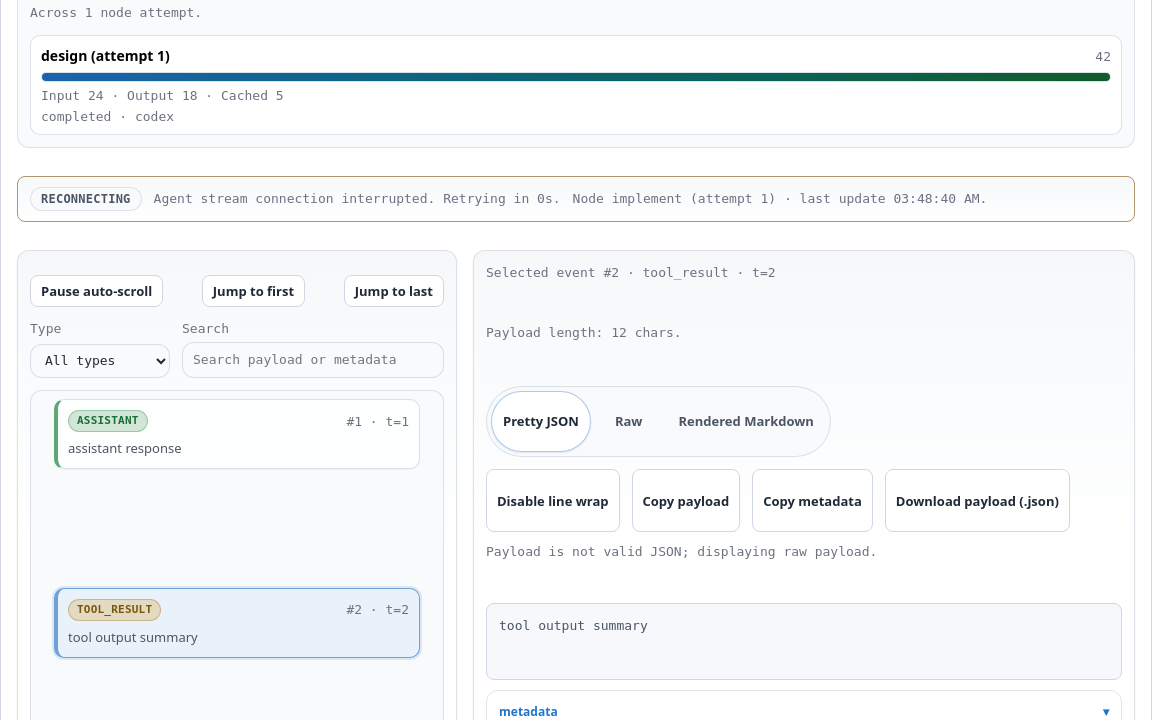
Test: RunDetailContent realtime updates › filters and searches stream events in the inspector list
(page scrolled)
Expected: the text "assistant response" is shown, left=68, top=439, right=182, bottom=457
Expected: the text "tool output summary" below "Type" is shown, left=68, top=628, right=198, bottom=646
Select "tool_result" in the dropdown named "Agent stream event type filter": (100, 361) left=30, top=344, right=170, bottom=378
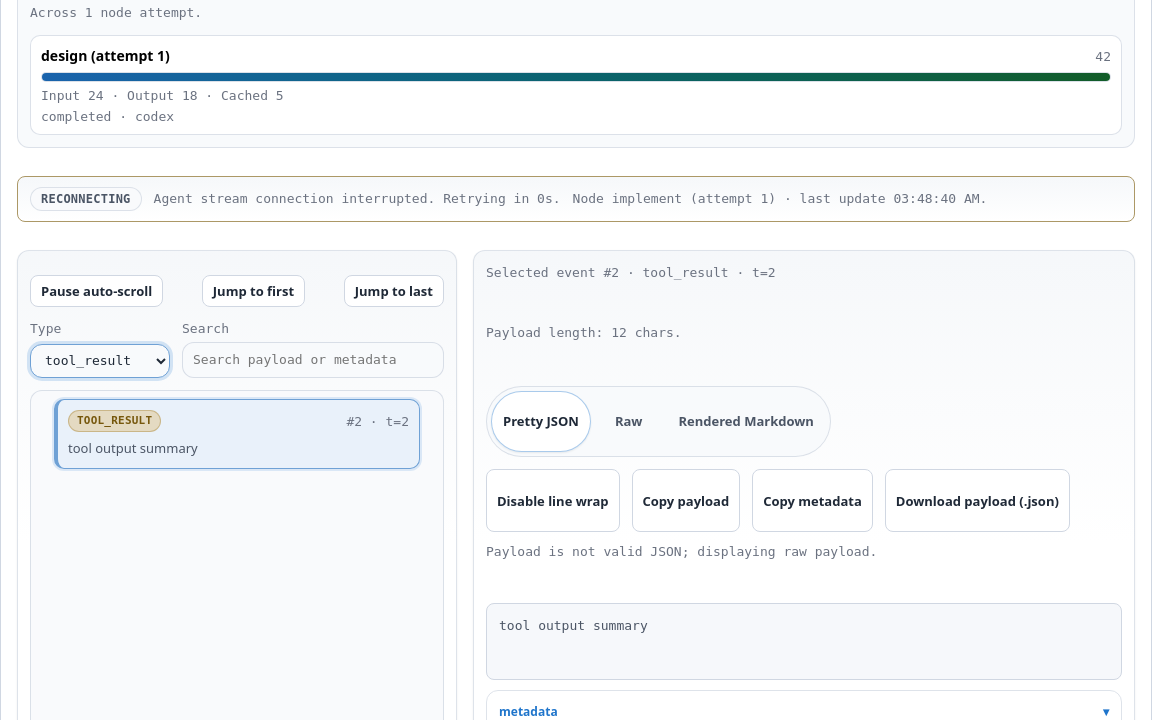
Expected: the text "tool output summary" below "Type" is shown, left=68, top=439, right=198, bottom=457
Expected: the button "assistant response" is gone
In the field named "Search agent stream events": (313, 360) left=182, top=342, right=444, bottom=378, type "no-match"
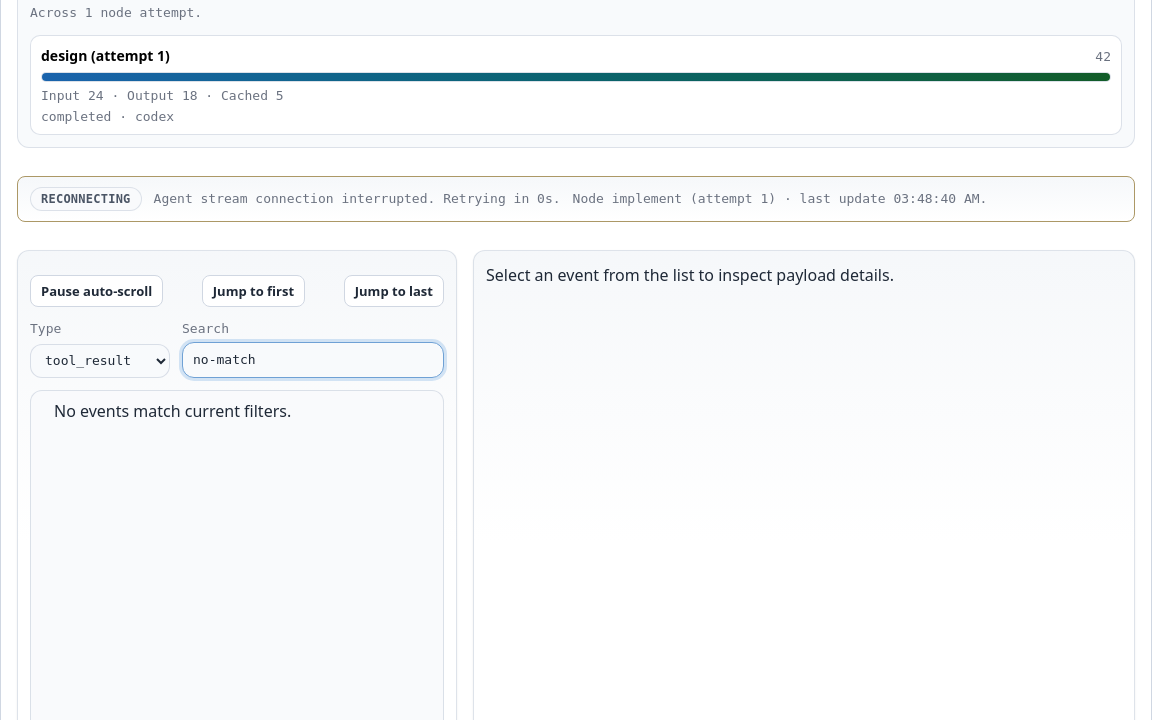
Expected: the text "No events match current filters." is shown, left=54, top=400, right=291, bottom=422
